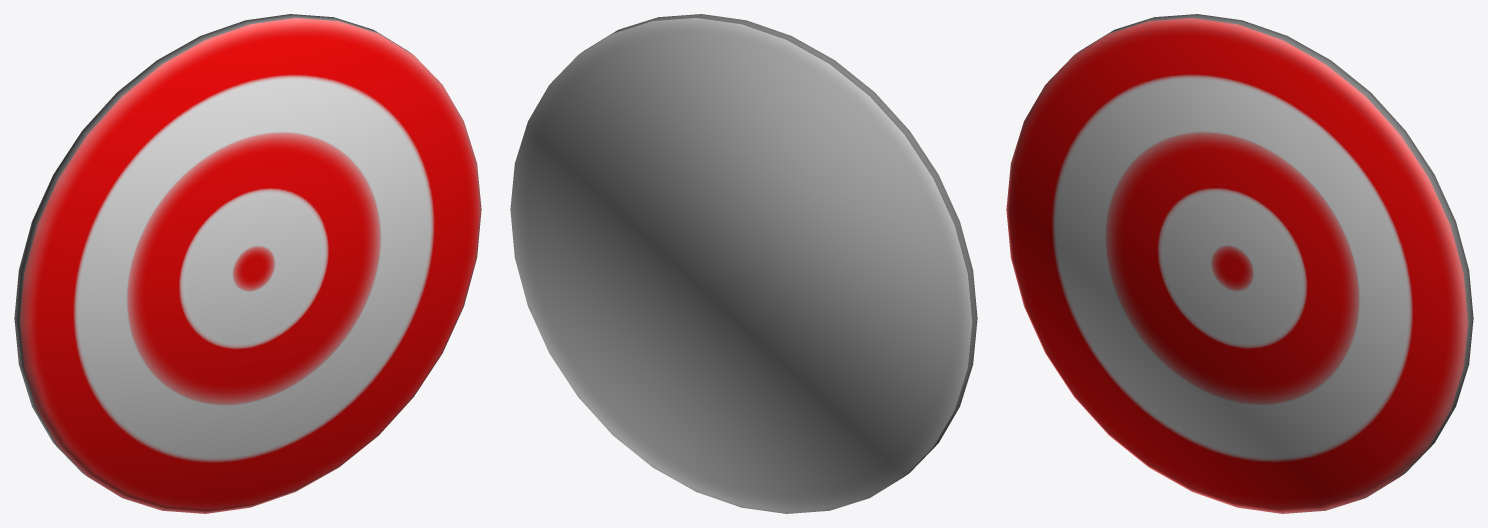
The model's file is maalitaulu_01.fbx.
3 renders of one model, left to right at view 1: azimuth 30°, elevation 25°; view 2: azimuth 150°, elevation 25°; view 3: azimuth 330°, elevation 25°, orthographic.
Parts seen in each view (by area): view 1: Circle; view 2: Circle; view 3: Circle.
Part boxes in pixels (x1,y1,x2,y2): Circle: [14, 14, 481, 513]; Circle: [510, 14, 977, 513]; Circle: [1006, 14, 1473, 513].
Bounding box in the file's own units: 200 × 200 × 7.
Materials: 1 (1 with a texture image).
